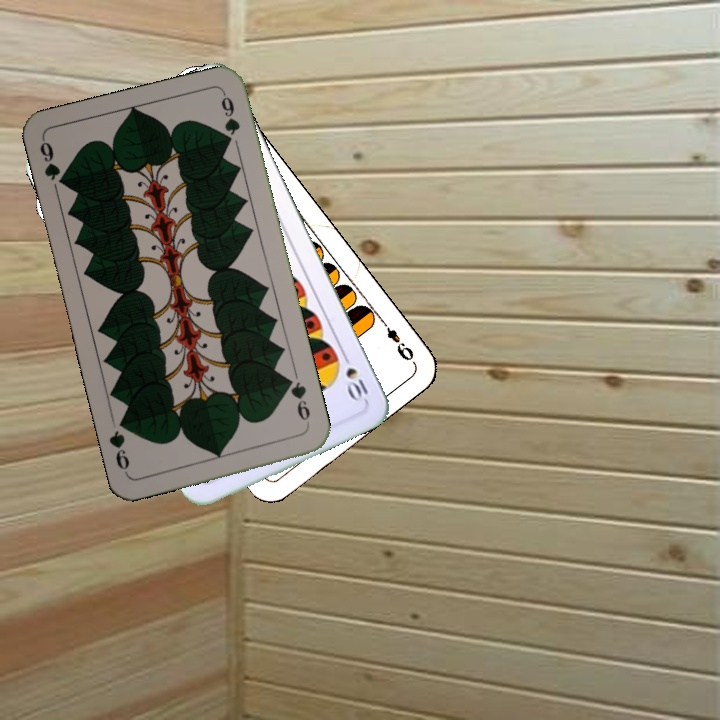E9: (377, 315, 417, 366)
G9: (35, 135, 71, 191), (282, 374, 313, 430)
S10: (338, 348, 371, 404)
